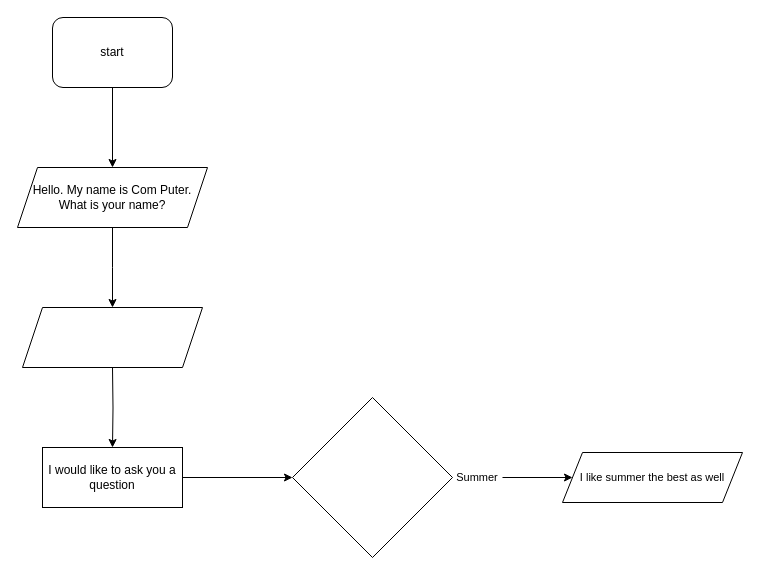
Some shapes in this 760 by 575 pixel diagram are drawn without their labels. The centre of each missing label's shape, as x and y in pixels:
"do you like winter or summer the best {Name}?" belongs at (372,477).
"It is good to meet you, {Name}" belongs at (112,337).
